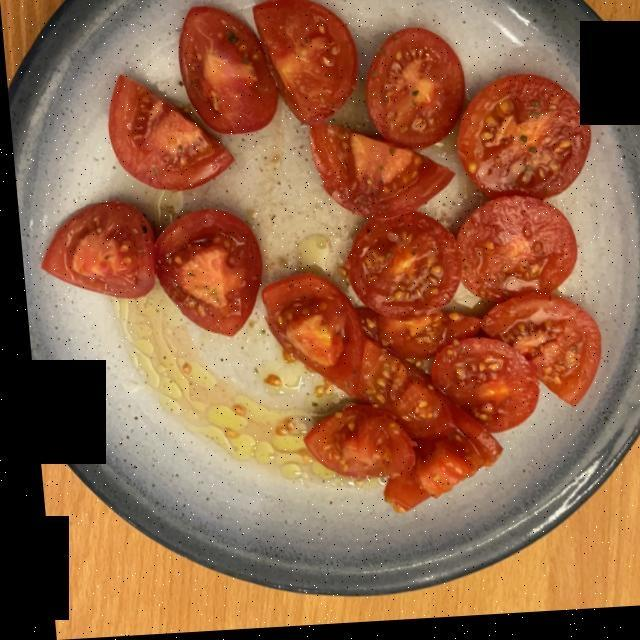tomato: (53, 12, 586, 504)
